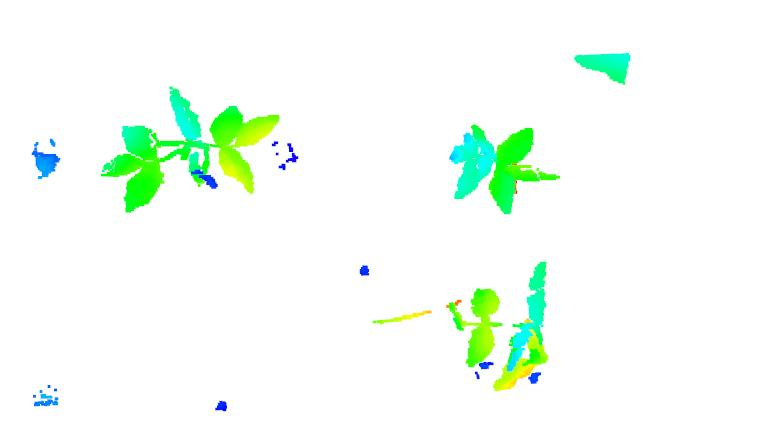mungbean: (99, 78, 279, 215), (458, 256, 553, 391), (449, 119, 568, 212)
